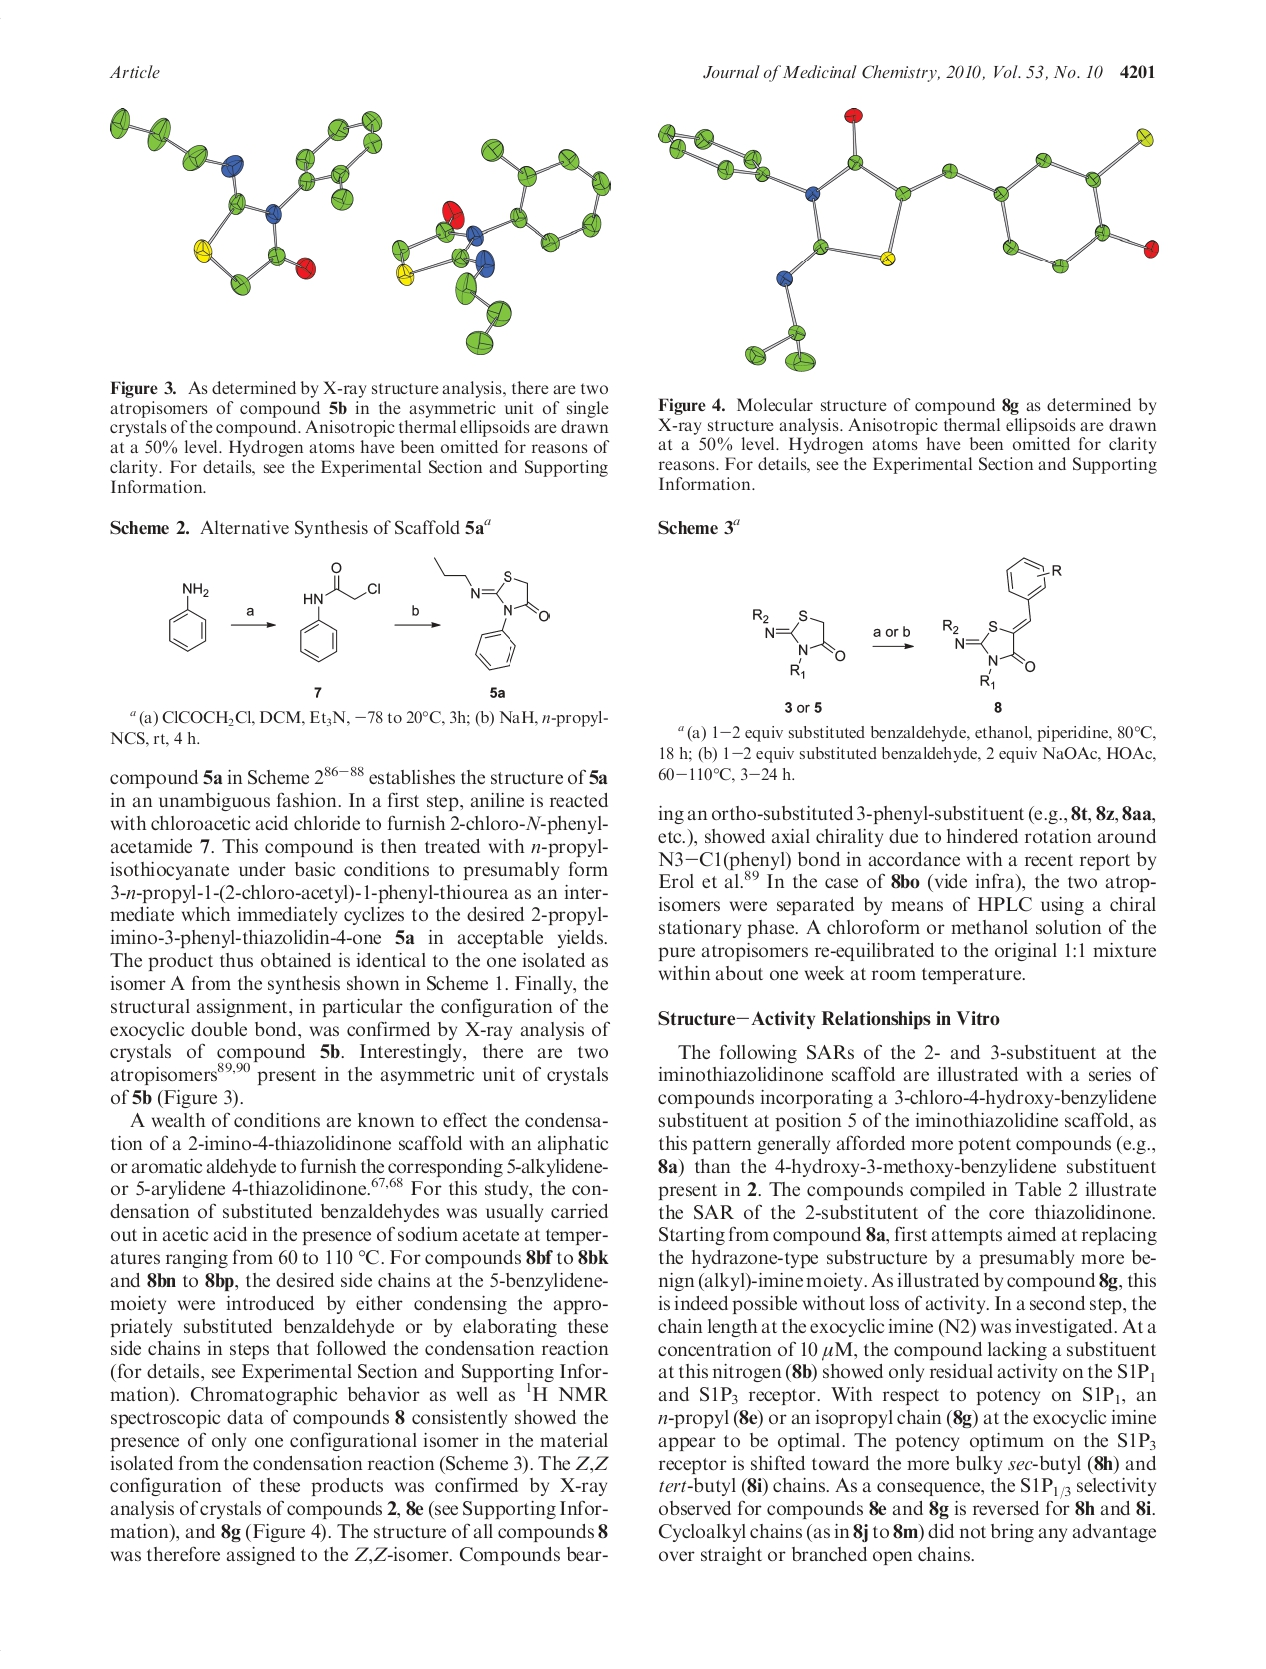exist_molecular: (644, 101, 1176, 376), (92, 98, 402, 303), (394, 134, 618, 362), (940, 551, 1077, 701), (426, 551, 551, 676), (290, 559, 394, 669), (742, 596, 847, 677), (161, 575, 213, 660)
